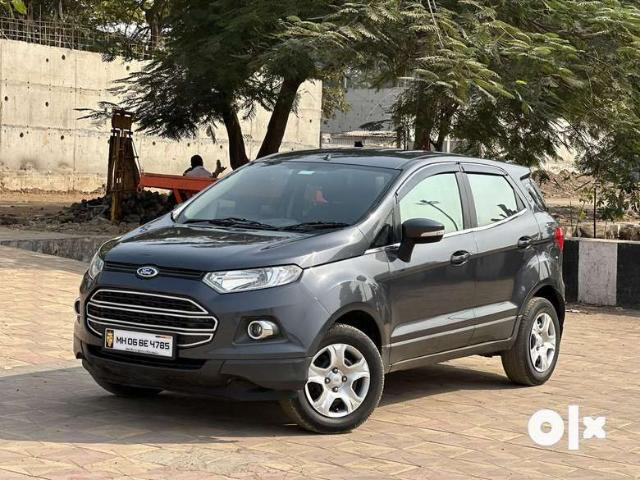Indian_Number_Plate: (105, 324, 176, 356)
